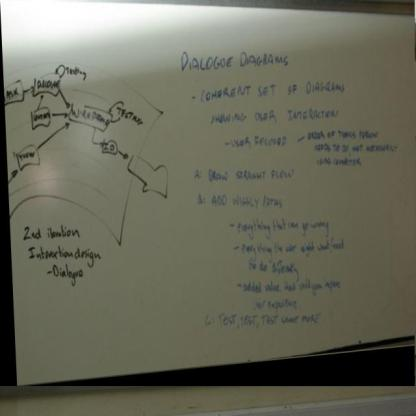Handwritten text: (203, 75, 350, 102), (307, 128, 402, 168), (180, 45, 293, 72), (203, 105, 348, 125), (235, 212, 331, 240), (211, 311, 328, 330), (182, 165, 298, 184), (239, 240, 349, 257), (237, 278, 346, 295), (208, 188, 287, 211), (24, 243, 103, 264), (228, 132, 291, 153), (238, 257, 302, 277), (41, 217, 88, 240), (48, 263, 87, 286), (252, 296, 298, 312)
Whiteboard: (1, 1, 416, 388)
